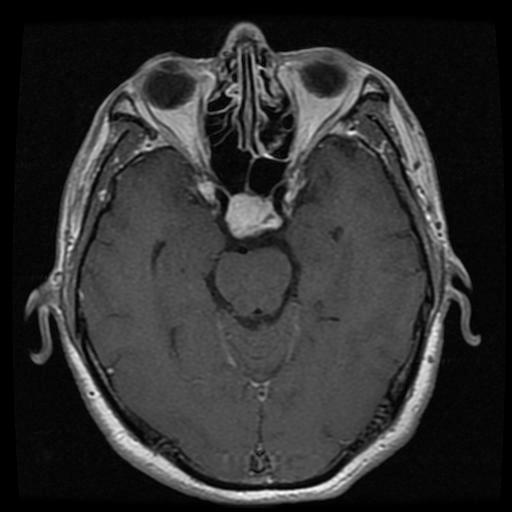Tumour-Meningioma: (203, 182, 293, 260)
